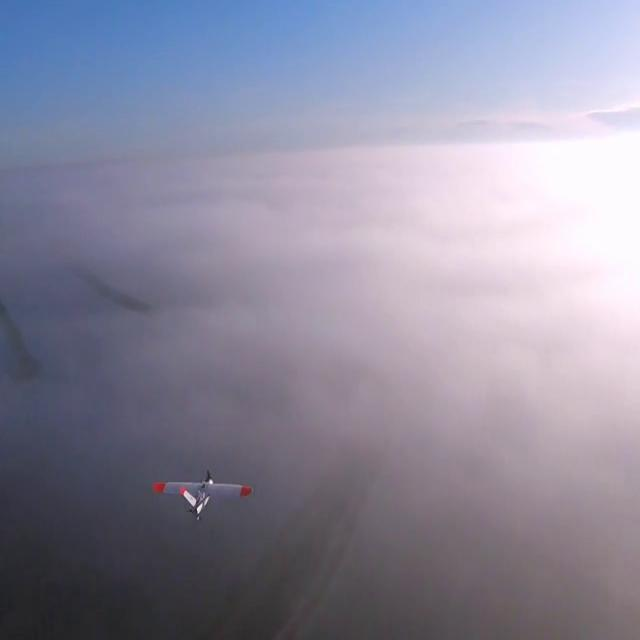iha: (176, 470, 217, 526)
